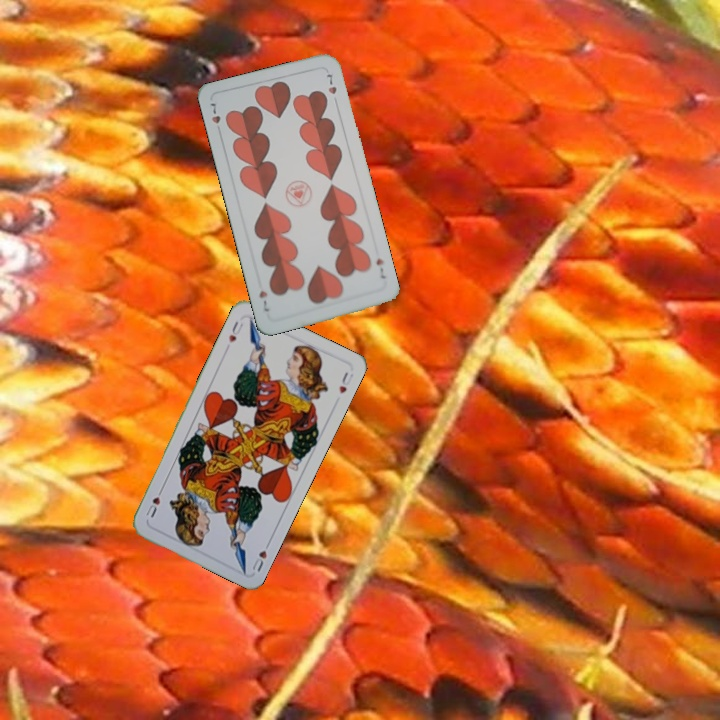H7: (206, 99, 224, 137), (372, 255, 388, 281)
HU: (248, 537, 273, 575), (225, 317, 246, 345)
